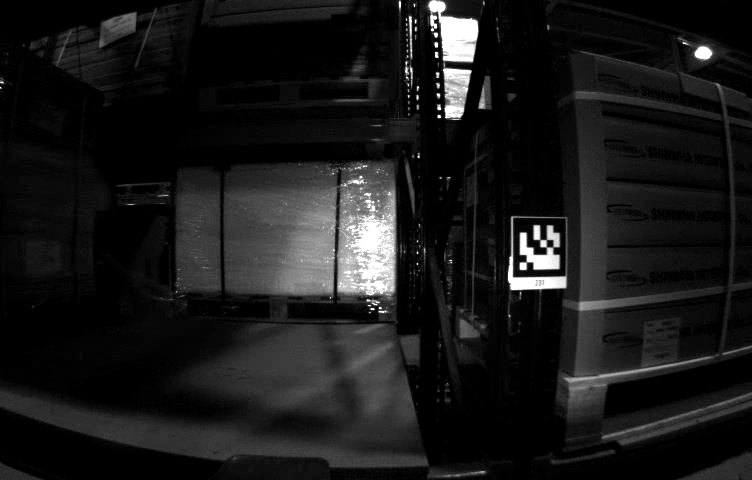True Barcode: (644, 318, 681, 364)
